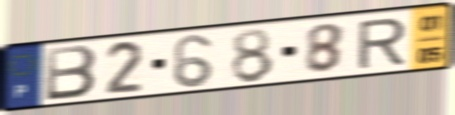2: (103, 39, 146, 96)
6: (171, 32, 216, 91)
8: (229, 27, 277, 84), (303, 21, 347, 75)
B: (44, 43, 100, 103)
R: (355, 15, 409, 72)
